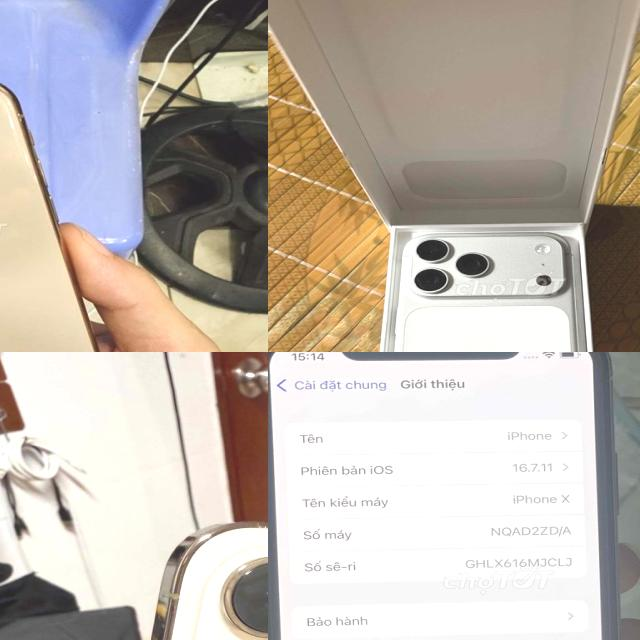gen_14: (80, 519, 268, 640)
gen_17: (385, 230, 591, 352)
gen_x_xs: (268, 352, 630, 640)
